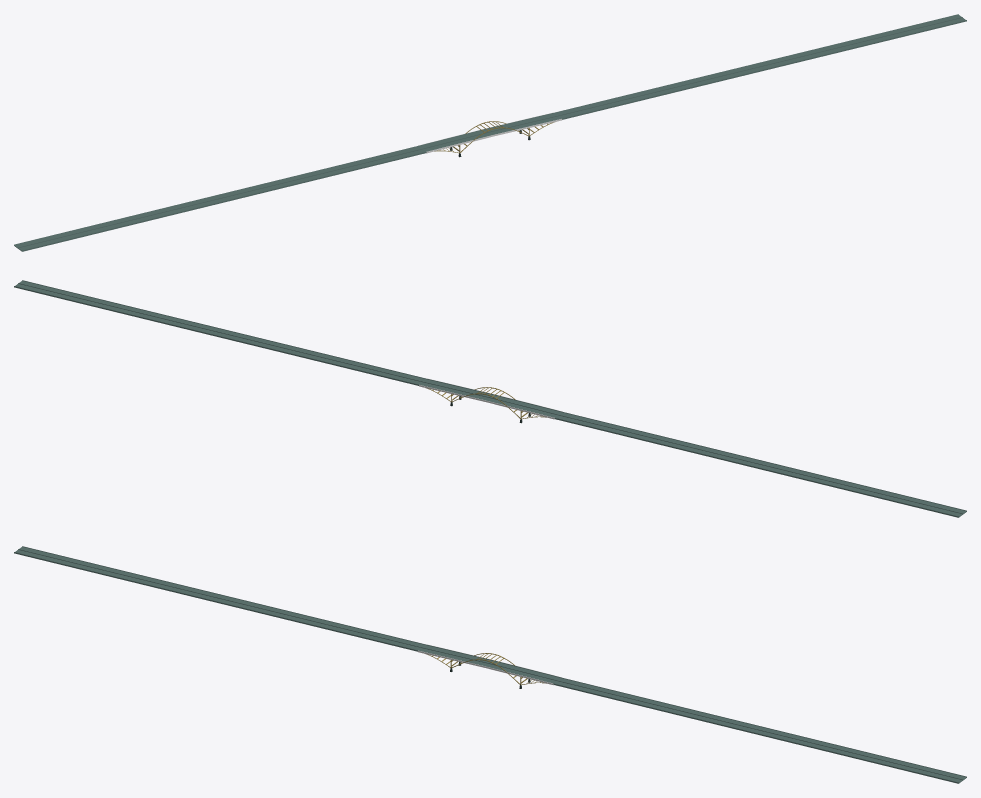
Rendered from Hoan_Bridge (OLD 2).FBX.
The picture shows the model from 3 angles, top to bottom: view 1: azimuth 30°, elevation 25°; view 2: azimuth 150°, elevation 25°; view 3: azimuth 330°, elevation 25°; orthographic projection.
Parts seen in each view (by area): view 1: Road; view 2: Road; view 3: Road.
Part boxes in pixels (box(x1,y1,x2,y2)): Road: box(14, 14, 966, 251); Road: box(14, 280, 966, 517); Road: box(14, 546, 966, 783).
Bounding box in the file's own units: 3394 × 67.83 × 60.15.
